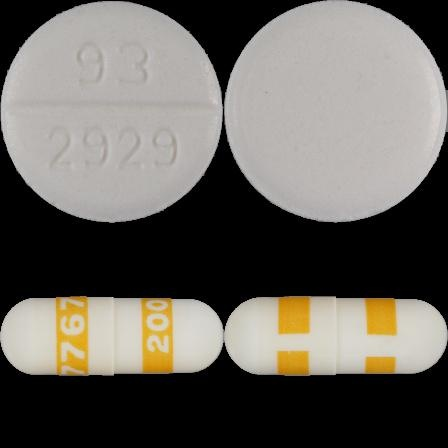63629-2982: (0, 0, 224, 224)
